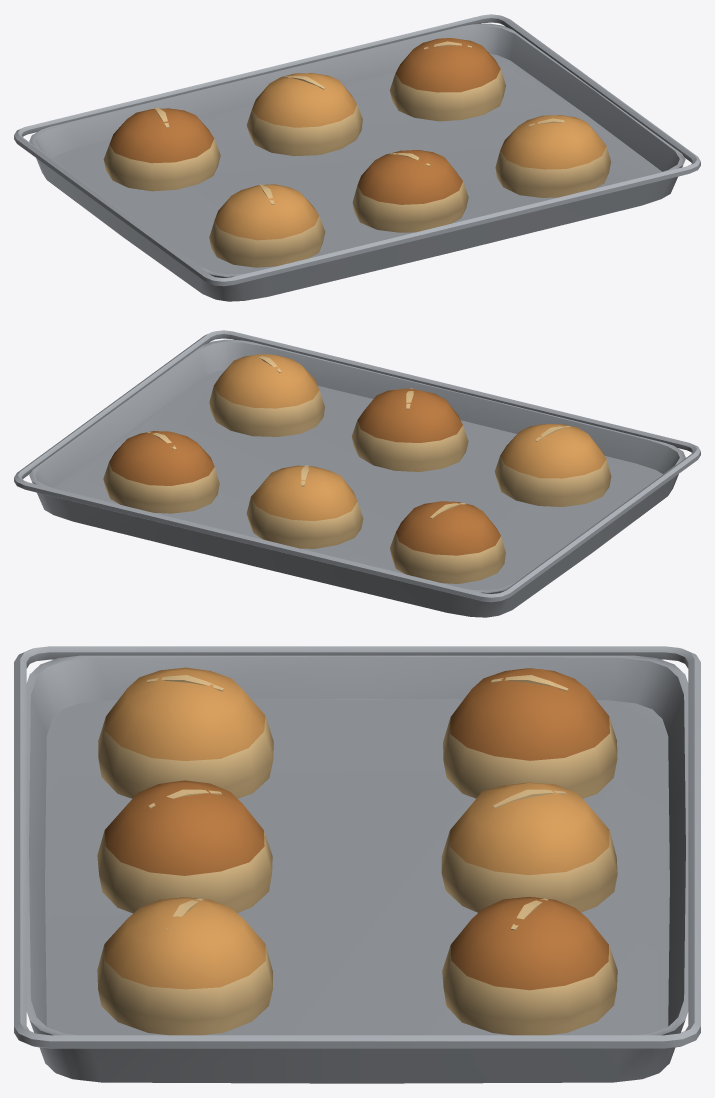
Rendered from bakingTray.glb.
3 renders of one model, top to bottom at view 1: azimuth 30°, elevation 25°; view 2: azimuth 150°, elevation 25°; view 3: azimuth 270°, elevation 25°, orthographic. The views are drawn at different scales.
Parts seen in each view (by area): view 1: bakingTray; view 2: bakingTray; view 3: bakingTray.
Part boxes in pixels (x1,y1,x2,y2): bakingTray: (14,14,700,301); bakingTray: (14,330,700,617); bakingTray: (14,646,700,1083).
Size of the model in its own units: 0.3792 by 0.0469 by 0.2792.
